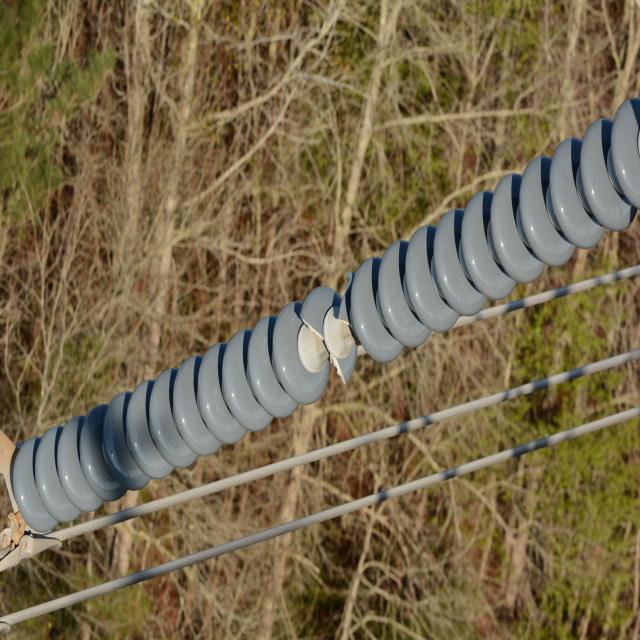broken: (298, 308, 348, 388)
insulator: (10, 92, 640, 528)
